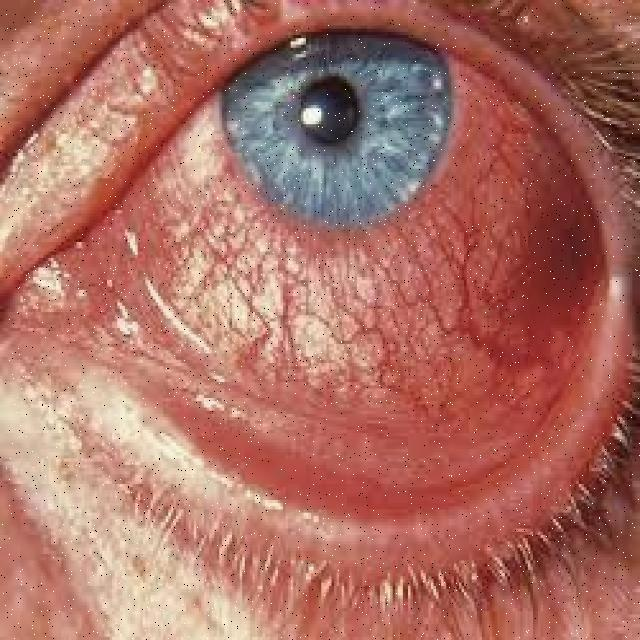Conjunctivitis: (21, 86, 614, 516)
